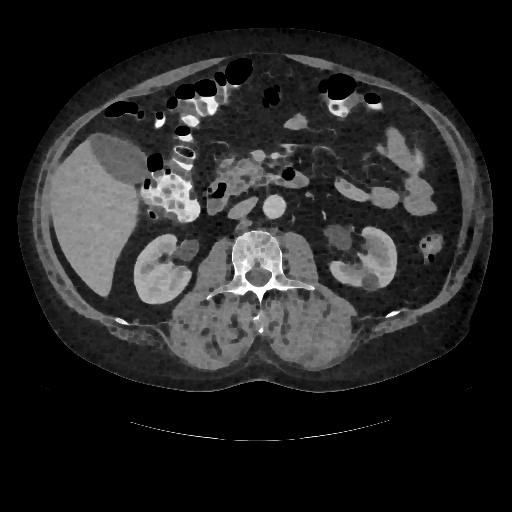Lesion: (357, 273, 380, 292)
